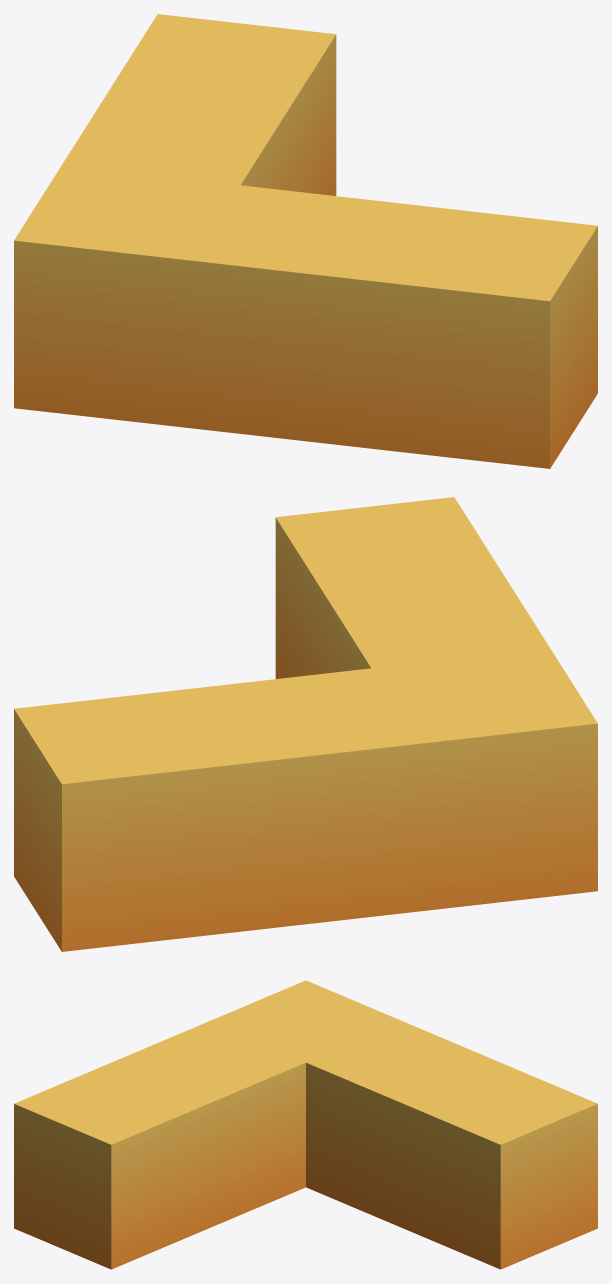
File: arrow-basic.glb
3 views of the same model, one above another, from view 1: azimuth 30°, elevation 25°; view 2: azimuth 150°, elevation 25°; view 3: azimuth 270°, elevation 25° (orthographic). The views are drawn at different scales.
Parts seen in each view (by area): view 1: arrow-basic; view 2: arrow-basic; view 3: arrow-basic.
Part boxes in pixels (x1=…): arrow-basic: x1=14, y1=14, x2=597, y2=468; arrow-basic: x1=14, y1=497, x2=597, y2=951; arrow-basic: x1=14, y1=980, x2=597, y2=1269.
Size of the model in its own units: 0.5657 by 0.2 by 0.8485.
1 material, 1 textured.
